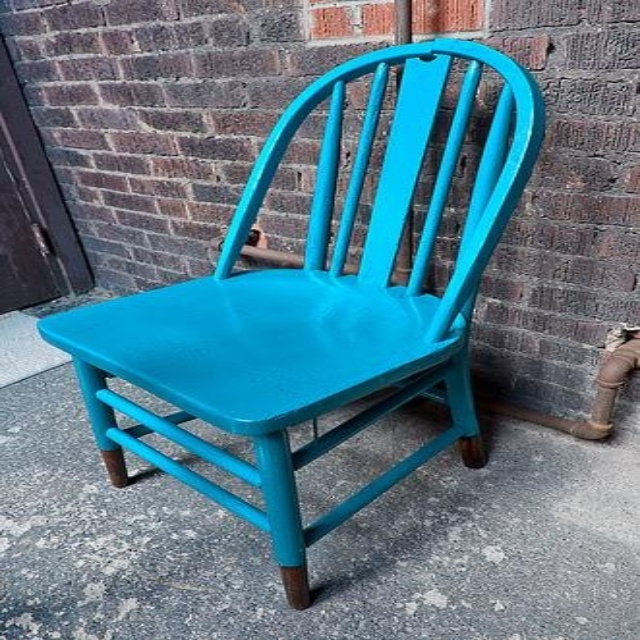obstacle: (39, 40, 541, 608)
